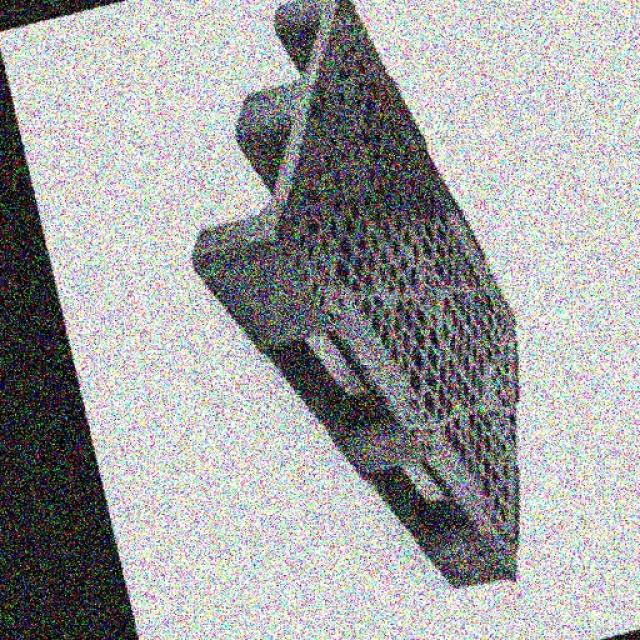non-igps: (181, 0, 530, 594)
